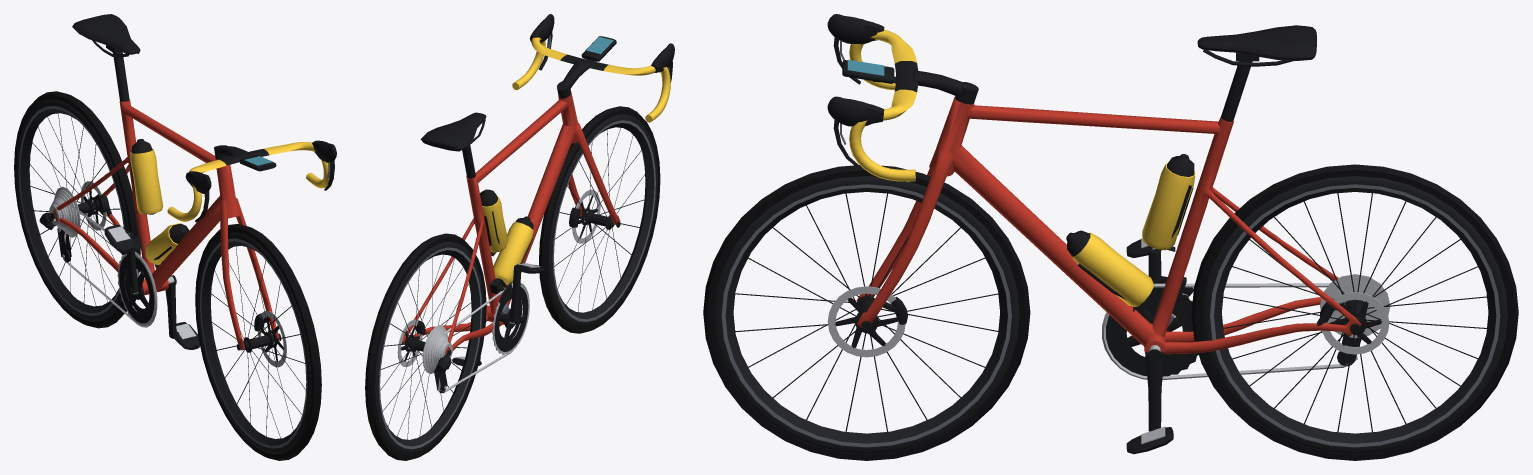
The model's file is bike_climb.glb.
3 views of the same model, side by side, from view 1: azimuth 30°, elevation 25°; view 2: azimuth 150°, elevation 25°; view 3: azimuth 270°, elevation 25° (orthographic). The views are drawn at different scales.
Parts seen in each view (by area): view 1: frame, wheel_front, wheel_rear, crankset, pedal_R, pedal_L; view 2: frame, wheel_rear, wheel_front, crankset; view 3: frame, wheel_rear, wheel_front, crankset, pedal_L.
Part boxes in pixels (x1=…): frame: x1=39, y1=14, x2=336, y2=350; wheel_front: x1=195, y1=224, x2=321, y2=460; wheel_rear: x1=14, y1=91, x2=140, y2=328; crankset: x1=117, y1=232, x2=176, y2=338; pedal_R: x1=104, y1=224, x2=135, y2=252; pedal_L: x1=174, y1=322, x2=199, y2=349; frame: x1=402, y1=14, x2=674, y2=393; wheel_rear: x1=365, y1=233, x2=486, y2=460; wheel_front: x1=539, y1=106, x2=660, y2=333; crankset: x1=478, y1=264, x2=529, y2=365; frame: x1=827, y1=14, x2=1361, y2=379; wheel_rear: x1=1191, y1=164, x2=1518, y2=460; wheel_front: x1=703, y1=165, x2=1030, y2=460; crankset: x1=1106, y1=250, x2=1198, y2=431; pedal_L: x1=1126, y1=426, x2=1173, y2=454.
Bounding box in the file's own units: 0.4654 × 0.9595 × 1.67.
